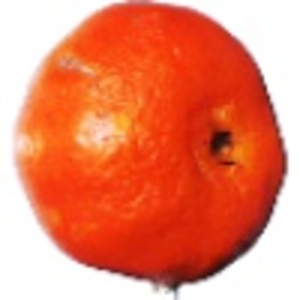tangerina: (12, 1, 290, 300)
